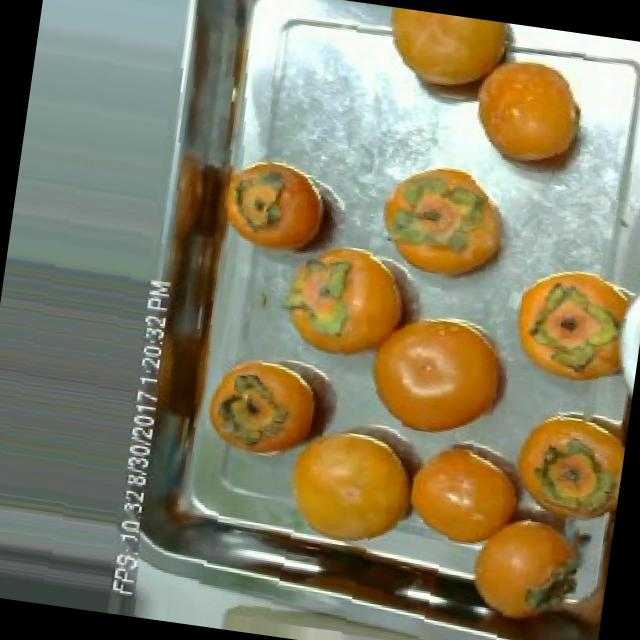Fruit: (348, 294, 533, 452), (265, 410, 442, 557), (359, 148, 529, 296), (452, 48, 604, 194), (446, 494, 604, 634), (388, 423, 543, 565), (496, 250, 640, 401), (196, 345, 352, 478), (490, 395, 630, 537), (370, 6, 524, 119), (219, 148, 347, 272)
